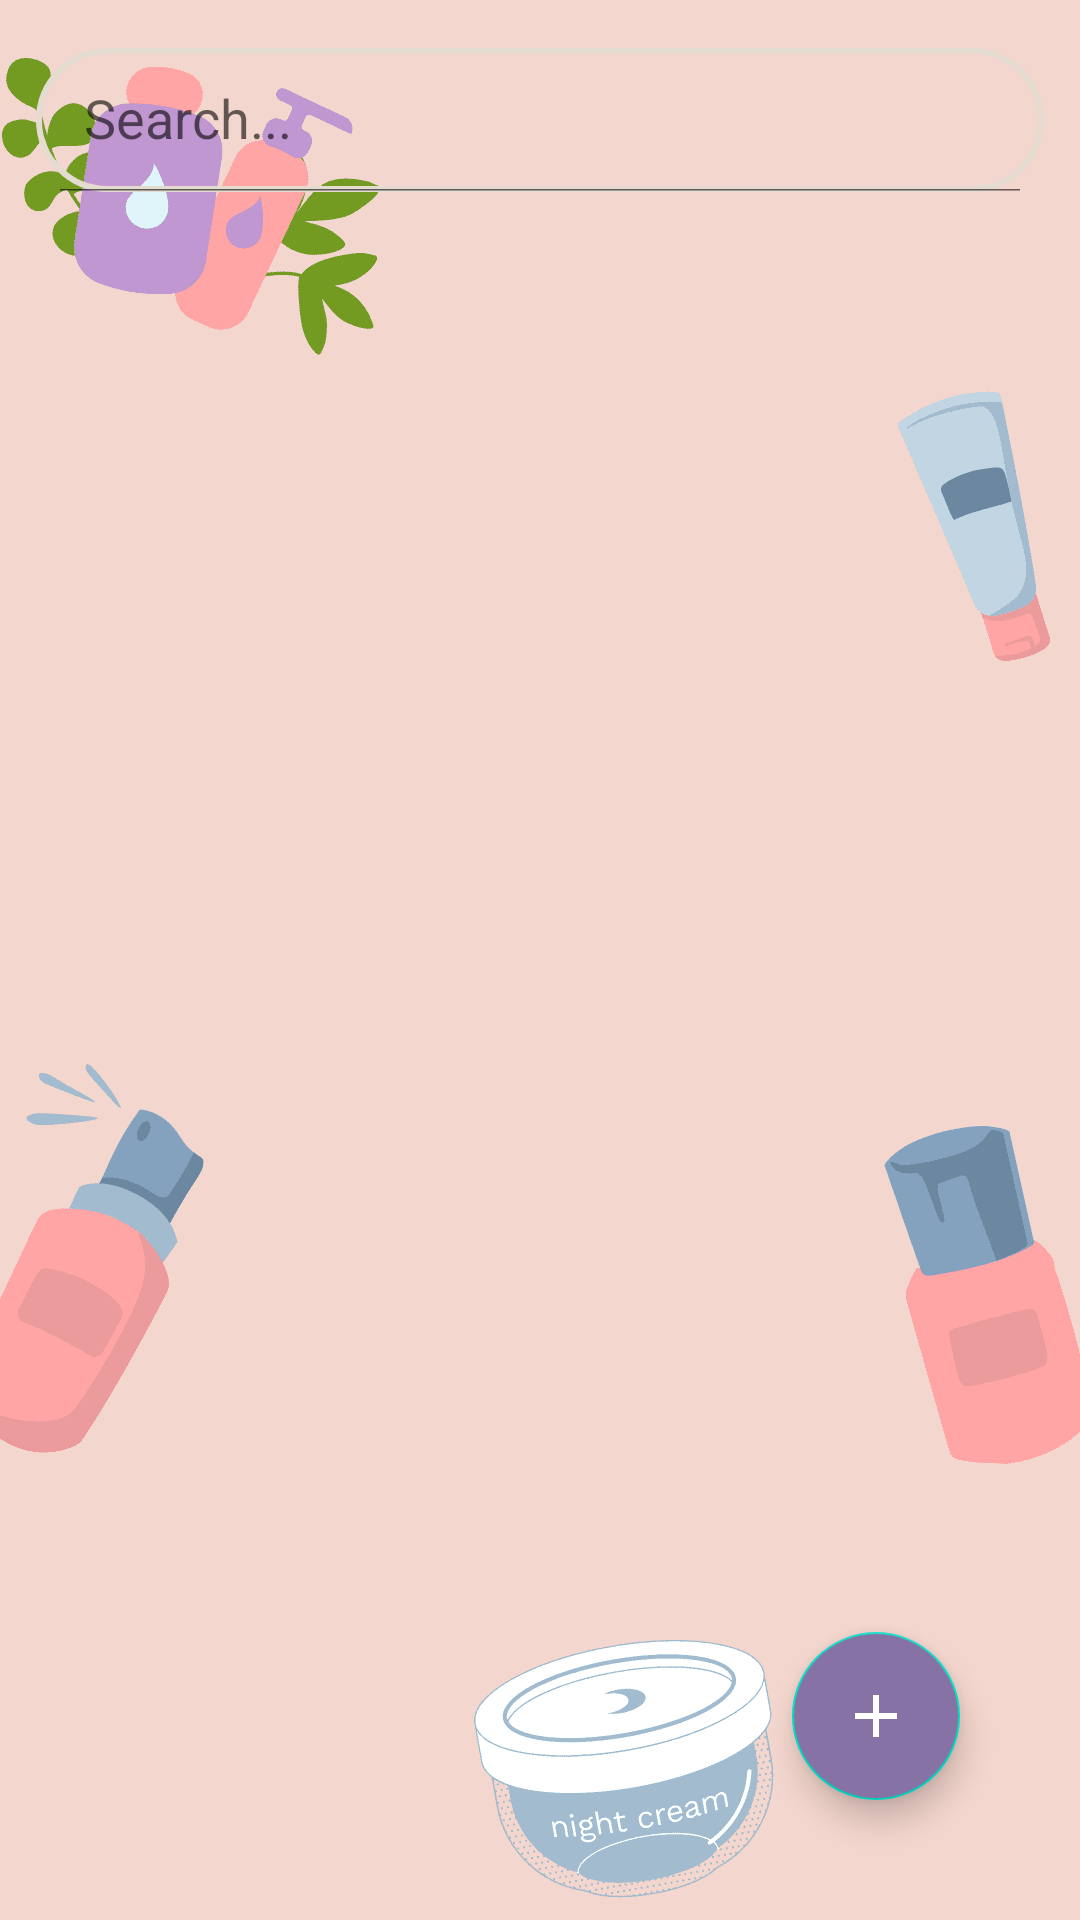

Named icons in this screenshot (1080px x 1920px) and their centers, point (x, y):
add: point (876, 1716)
